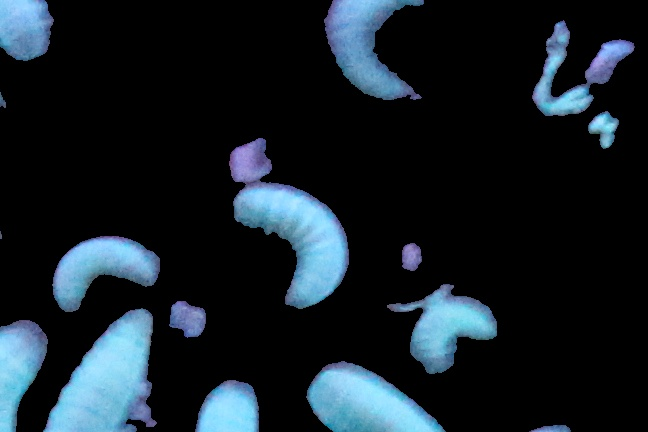larvae: (52, 315, 168, 432), (234, 181, 344, 304), (321, 1, 430, 108), (311, 361, 437, 432), (47, 234, 163, 304), (1, 310, 58, 432), (409, 294, 494, 367), (198, 369, 278, 432), (1, 1, 50, 62)
